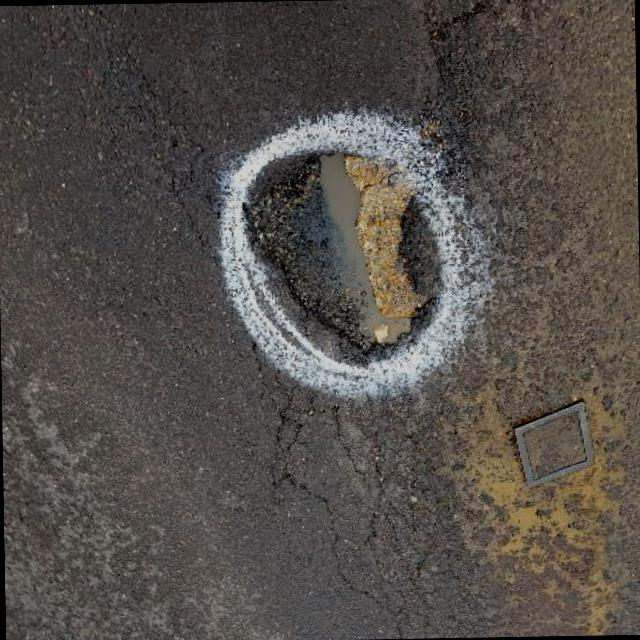pothole: (232, 140, 456, 372)
